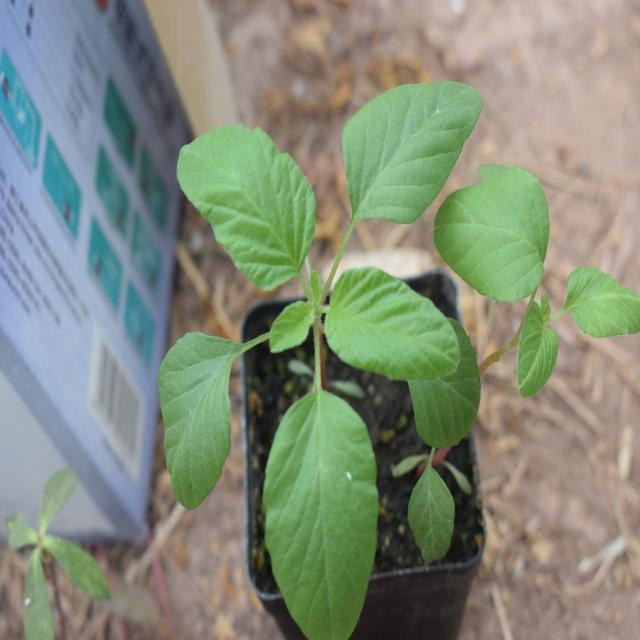pigweed: (159, 77, 475, 598), (424, 157, 632, 393)
